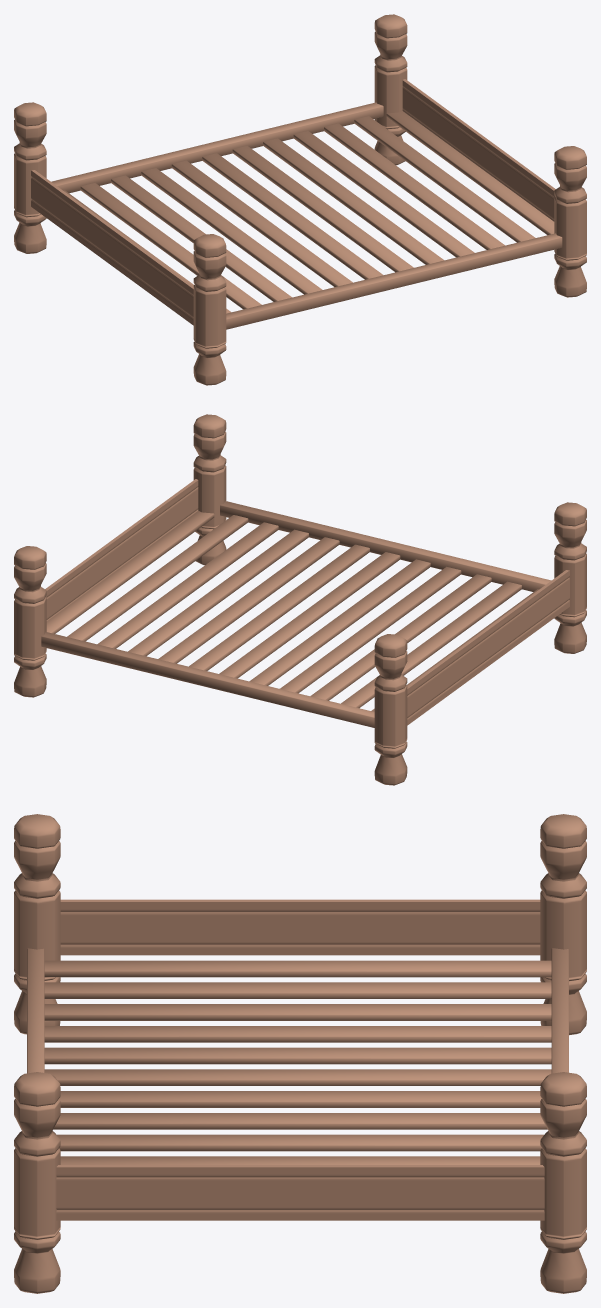
File: Bedframe 1.fbx
3 views of the same model, one above another, from view 1: azimuth 30°, elevation 25°; view 2: azimuth 150°, elevation 25°; view 3: azimuth 270°, elevation 25° (orthographic). The views are drawn at different scales.
Parts seen in each view (by area): view 1: Bed board; view 2: Bed board; view 3: Bed board.
Boxes of the visible parts, x1,y1,x2,y2 form: Bed board: (14,14,586,385); Bed board: (14,414,586,785); Bed board: (14,814,586,1293).
Bounding box in the file's own units: 374 × 130 × 327.
